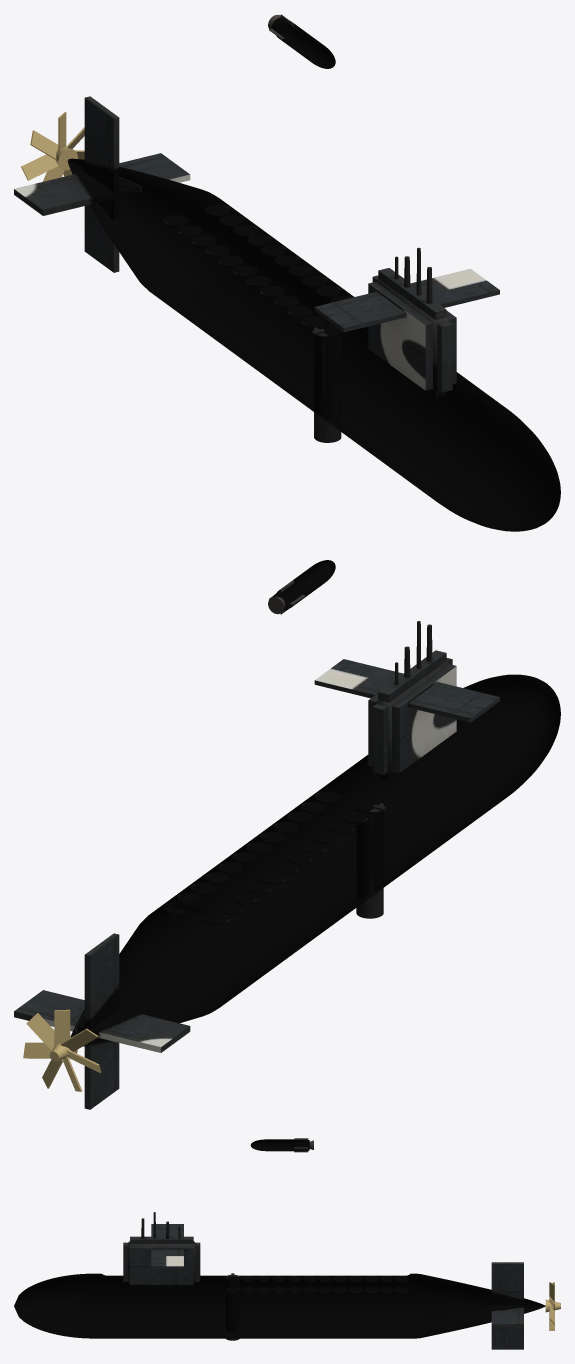
The picture shows the model from 3 angles, top to bottom: view 1: azimuth 30°, elevation 25°; view 2: azimuth 150°, elevation 25°; view 3: azimuth 270°, elevation 25°; orthographic projection. The views are drawn at different scales.
Parts seen in each view (by area): view 1: sub_m, Prop, NukeMissile_m; view 2: sub_m, Prop, NukeMissile_m; view 3: sub_m, NukeMissile_m, Prop.
Boxes of the visible parts, <box> form: sub_m: <box>14,96,560,531</box>; Prop: <box>21,112,84,181</box>; NukeMissile_m: <box>268,14,335,68</box>; sub_m: <box>14,621,560,1109</box>; Prop: <box>23,1009,101,1091</box>; NukeMissile_m: <box>268,560,335,614</box>; sub_m: <box>14,1212,545,1349</box>; NukeMissile_m: <box>250,1138,313,1152</box>; Prop: <box>545,1282,560,1330</box>.
Size of the model in its own units: 17 by 39.29 by 92.5.
Materials: 4 (3 with a texture image).
